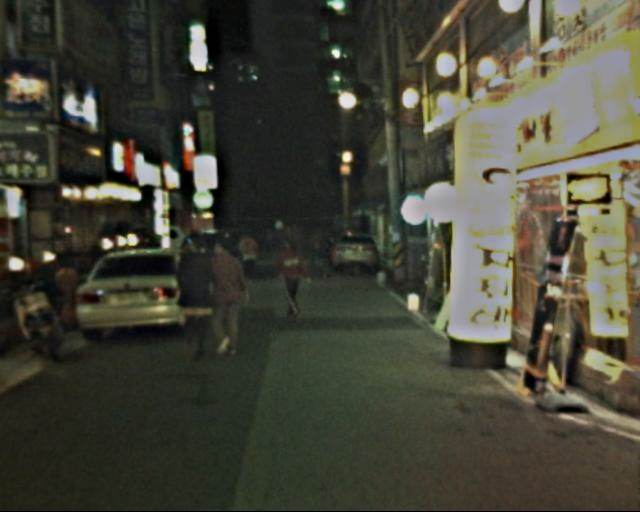person: (176, 226, 225, 366), (201, 226, 251, 359), (274, 224, 312, 316), (272, 207, 300, 279), (236, 224, 264, 288), (315, 226, 336, 279)
